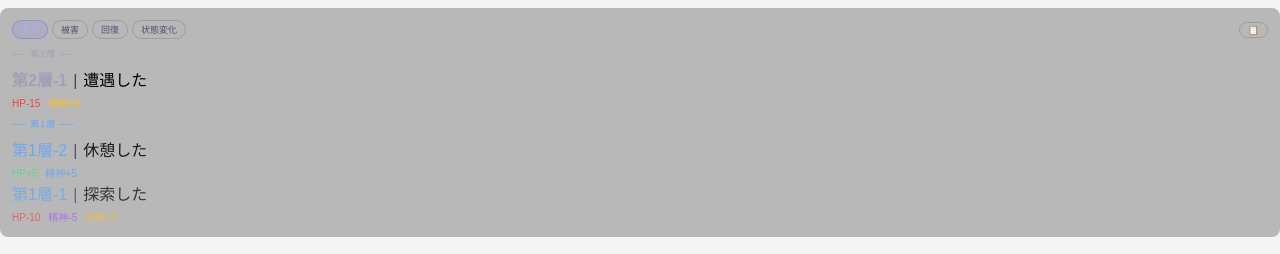
Test: LogPanel › フィルタリング › 回復フィルターをクリックすると回復ログのみ表示される
Step 1. Click the button "回復" → {"x": 110, "y": 30}, box x1=92 y1=20 x2=128 y2=39
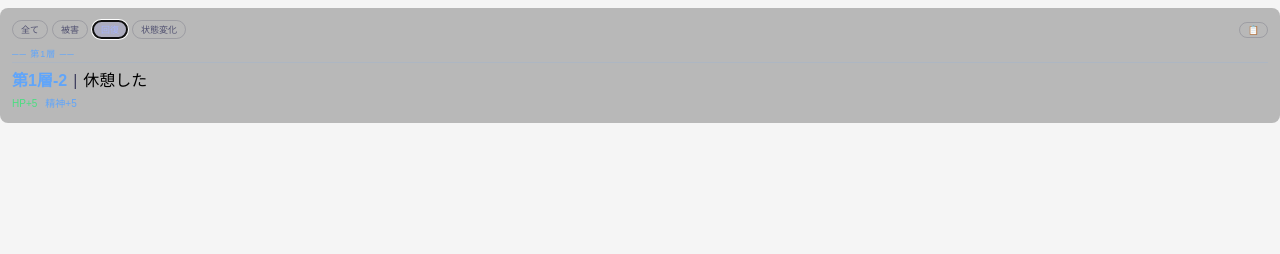
Expected: the text "休憩した" is shown, x1=83 y1=72 x2=147 y2=89
Expected: the text "探索した" is gone
